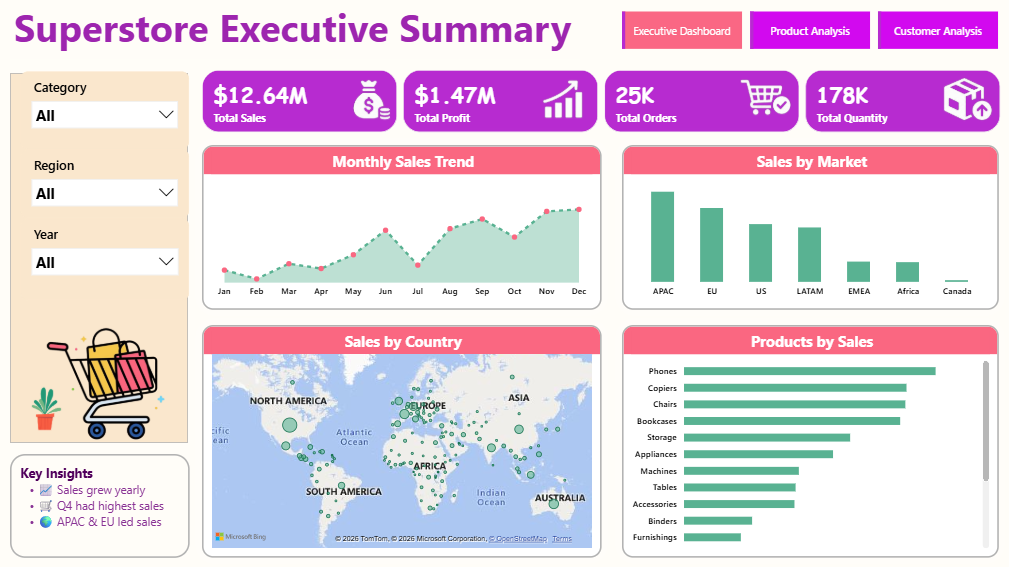

What the dashboard file says about the page in this screenshot:
{"tool":"powerbi","page":{"name":"Executive Dashboard ","canvas":[1280,720],"ordinal":0},"visuals":[{"type":"cardVisual","fields":{"Data":["Sales Data.total sales","Sales Data.total profit","Sales Data.Total Orders","Sales Data.total quantity"]},"box":[240.2,72.9,1040.3,112.6],"z":0},{"type":"shape","box":[15.2,93.5,223.9,465.2],"z":1000},{"type":"areaChart","title":"Monthly Sales Trend","fields":{"Category":["Calander Table.Month"],"Y":["Sales Data.total sales"]},"box":[257.1,185.7,502.4,207.1],"z":2000},{"type":"columnChart","title":"Sales by Market","fields":{"Category":["Sales Data.market"],"Y":["Sales Data.total sales"]},"box":[785.7,185.7,473.8,207.1],"z":3000},{"type":"barChart","title":"Products by Sales ","fields":{"Category":["Sales Data.sub_category"],"Y":["Sales Data.total sales"]},"box":[785.7,411.9,473.8,292.9],"z":4000},{"type":"map","title":"Sales by Country","fields":{"Category":["Sales Data.country"],"Size":["Sales Data.total sales"]},"box":[257.1,411.9,502.4,292.9],"z":5000},{"type":"textbox","title":"Superstore Executive Summary ","box":[15.2,4.3,717.4,73.9],"z":6000},{"type":"image","box":[395.9,92.8,130.9,62.9],"z":7000},{"type":"image","box":[660.9,92.8,99.4,62.9],"z":8000},{"type":"image","box":[1167.8,76.2,112.6,94.4],"z":9000},{"type":"image","box":[914.4,62.9,96.1,112.6],"z":10000},{"type":"slicer","fields":{"Values":["Calander Table.year"]},"box":[28.2,276.6,212,102.7],"z":11000},{"type":"slicer","title":"Region","fields":{"Values":["Sales Data.region"]},"box":[28.6,190.5,211.9,85.7],"z":12000},{"type":"slicer","fields":{"Values":["Sales Data.category"]},"box":[28.6,92.9,211.9,97.6],"z":13000},{"type":"image","box":[54.3,410.9,160.9,147.8],"z":14000},{"type":"image","box":[28.3,484.8,65.2,63],"z":15000},{"type":"pageNavigator","box":[785.7,16.7,473.8,47.6],"z":16000},{"type":"textbox","box":[15.2,573.9,226.1,130.4],"z":17000}]}

Visuals, with their boxes in screenshot pixels (x1, y1, x2, y2), scaled from the page's 1280x720 canvas onto the 1009x567 screenshot:
cardVisual - Sales Data.total sales x Sales Data.total profit: BBox(189, 57, 1008, 146)
shape: BBox(12, 74, 188, 440)
"Monthly Sales Trend" areaChart: BBox(203, 146, 599, 309)
"Sales by Market" columnChart: BBox(619, 146, 993, 309)
"Products by Sales " barChart: BBox(619, 324, 993, 555)
"Sales by Country" map: BBox(203, 324, 599, 555)
"Superstore Executive Summary " textbox: BBox(12, 3, 577, 62)
image: BBox(312, 73, 415, 123)
image: BBox(521, 73, 599, 123)
image: BBox(921, 60, 1008, 134)
image: BBox(721, 50, 797, 138)
slicer - Calander Table.year: BBox(22, 218, 189, 299)
"Region" slicer: BBox(23, 150, 190, 218)
slicer - Sales Data.category: BBox(23, 73, 190, 150)
image: BBox(43, 324, 170, 440)
image: BBox(22, 382, 74, 431)
pageNavigator: BBox(619, 13, 993, 51)
textbox: BBox(12, 452, 190, 555)
